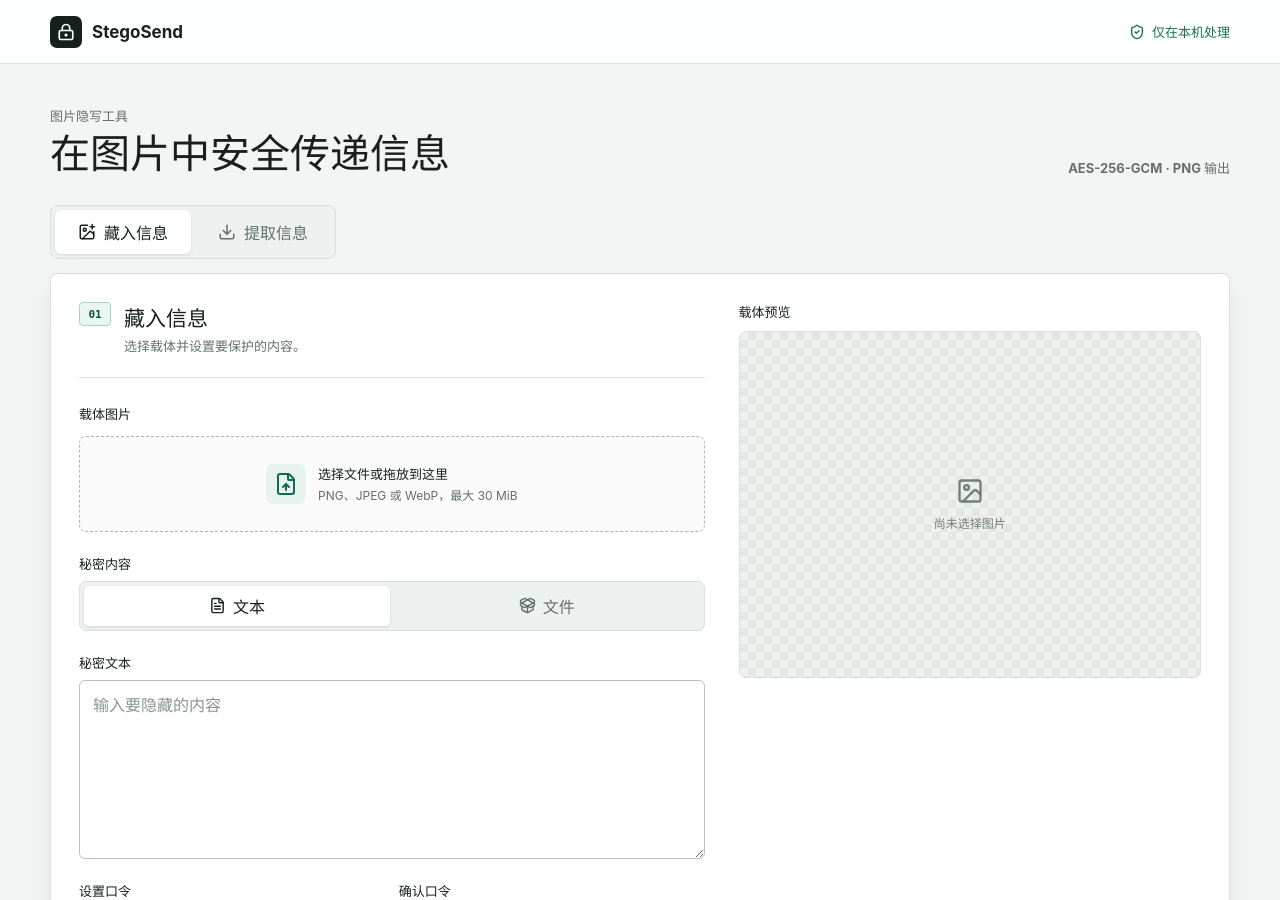
Test case: App › opens the encoding workspace by default and switches to decoding
This screenshot has width=1280, height=900.
Expected: the heading "藏入信息" is shown, [124, 306, 208, 331]
Click the tab "提取信息" at (263, 232), box [195, 210, 331, 254]
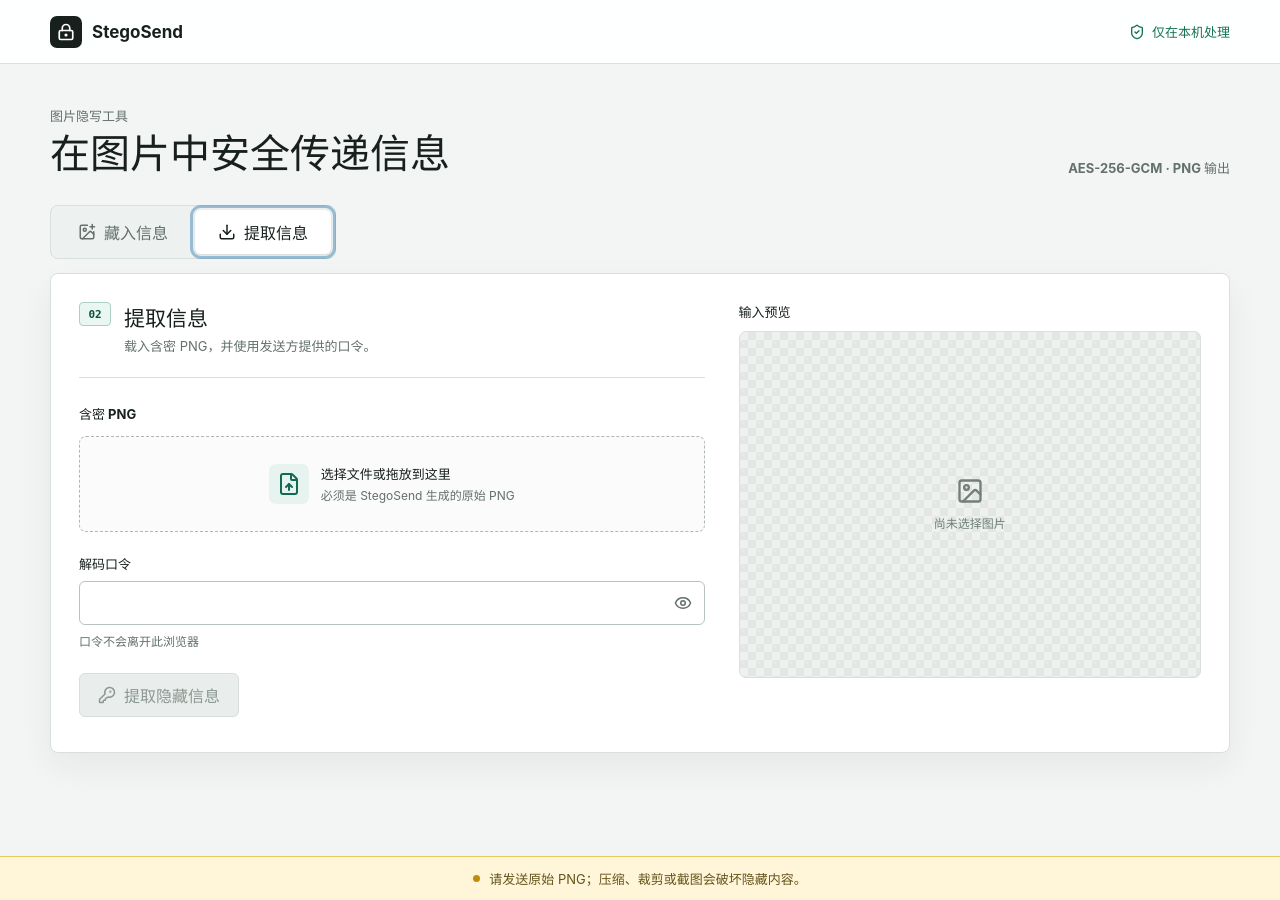
Result: the heading "提取信息" is shown at [124, 306, 208, 331]
